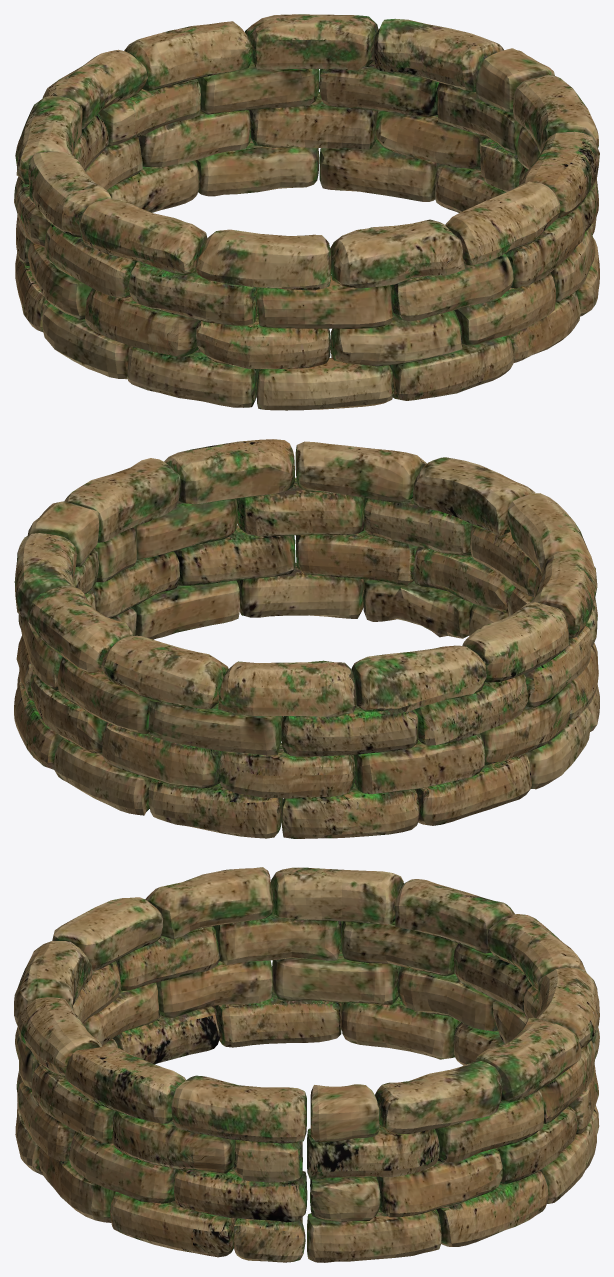
File: pozo_opt.glb
The picture shows the model from 3 angles, top to bottom: view 1: azimuth 30°, elevation 25°; view 2: azimuth 150°, elevation 25°; view 3: azimuth 270°, elevation 25°; orthographic projection.
Visible parts, largest first — view 1: Prop_Stonewell_01_Prop_Stonewell_02_Mat_0; view 2: Prop_Stonewell_01_Prop_Stonewell_02_Mat_0; view 3: Prop_Stonewell_01_Prop_Stonewell_02_Mat_0.
Part boxes in pixels (box(x1,y1,x2,y2)): Prop_Stonewell_01_Prop_Stonewell_02_Mat_0: box(14, 14, 599, 410); Prop_Stonewell_01_Prop_Stonewell_02_Mat_0: box(14, 439, 599, 838); Prop_Stonewell_01_Prop_Stonewell_02_Mat_0: box(14, 867, 599, 1262).
Size of the model in its own units: 3.24 by 1 by 3.25.
1 material, 1 textured.
